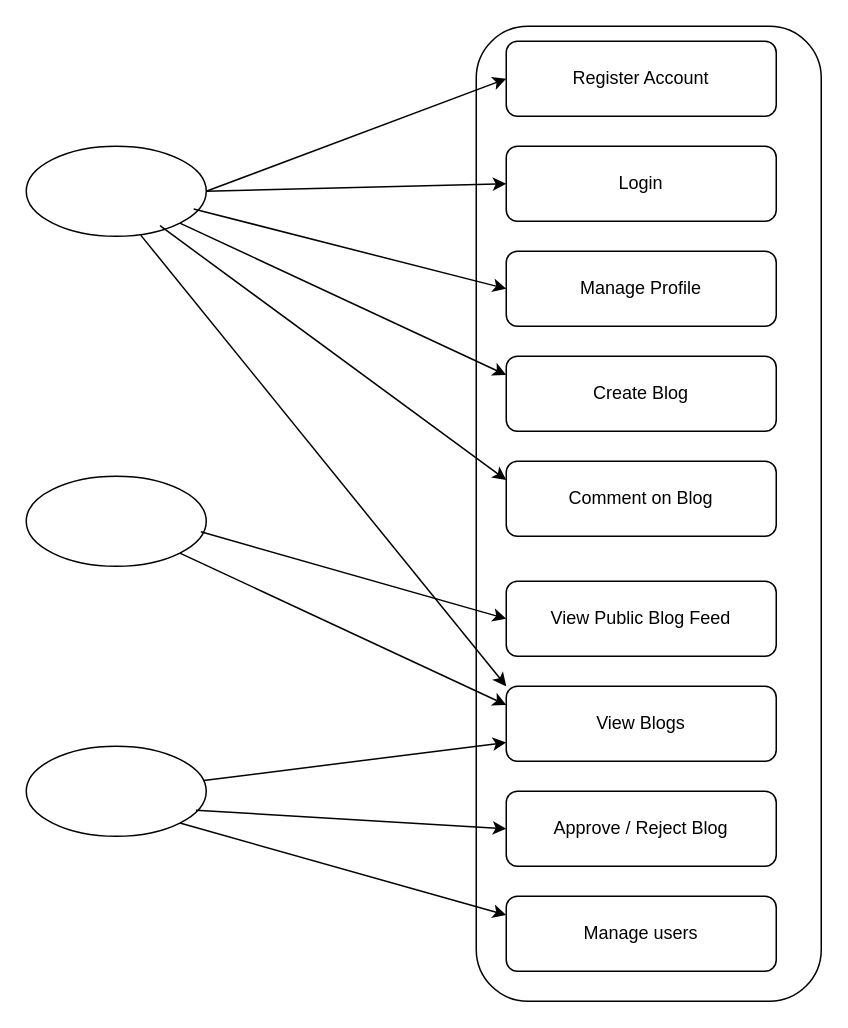
This 848x1028 diagram has some shape labels left out. The shapes that lost their labels are listed below. From the top down, each one's centre as x and y in pixels, then its label:
point 115,190: Student
point 115,520: Visitor
point 115,790: Admin
